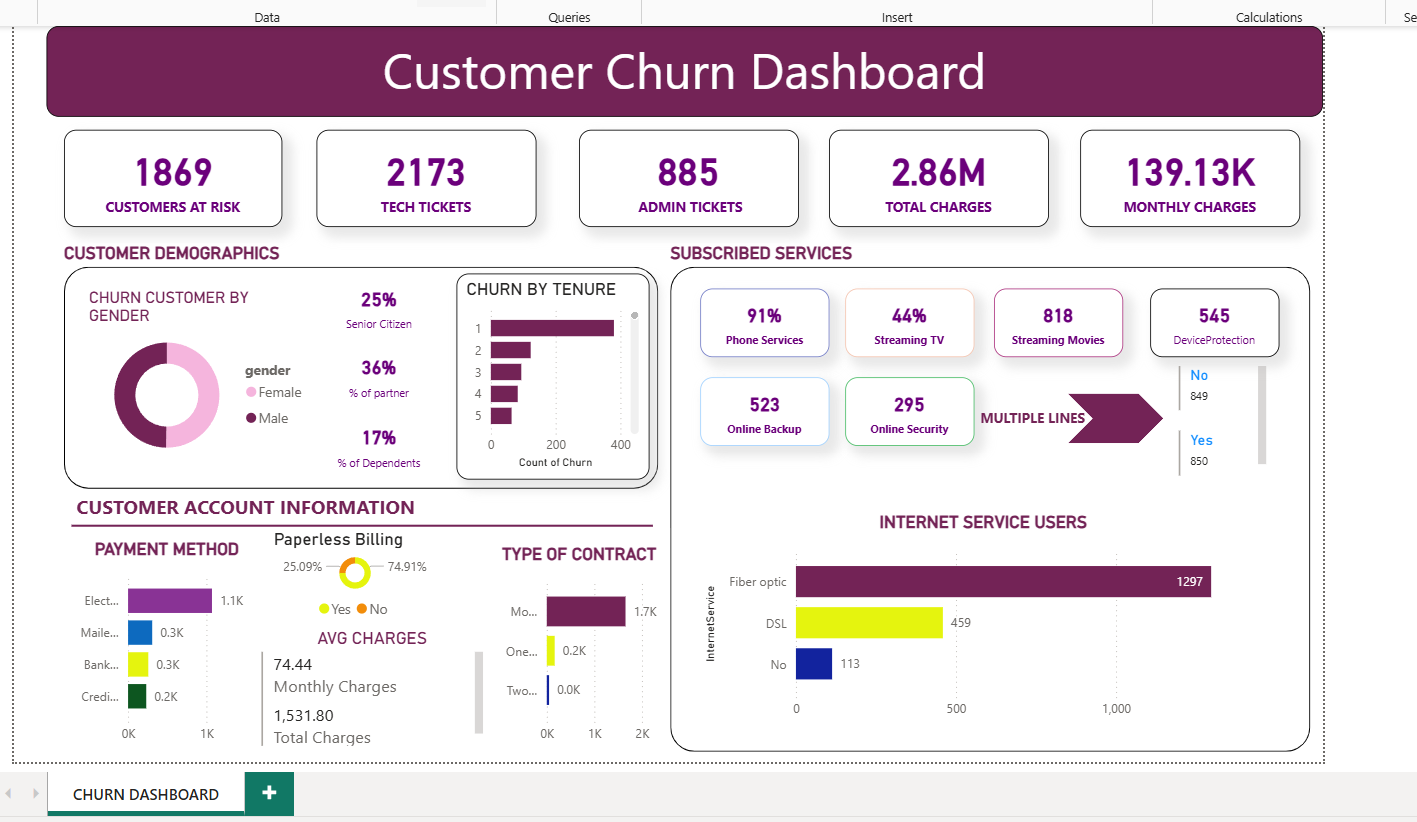

What the dashboard file says about the page in this screenshot:
{"tool":"powerbi","page":{"name":"CHURN DASHBOARD","canvas":[1280,720],"ordinal":0},"visuals":[{"type":"card","fields":{"Values":["CountNonNull(01 Churn-Dataset.customerID)"]},"box":[49.1,101,213.5,95.2],"z":0},{"type":"textbox","box":[31.2,0,1248.8,88.8],"z":1000},{"type":"card","fields":{"Values":["Sum(01 Churn-Dataset.numTechTickets)"]},"box":[295.8,101,215,95.2],"z":2000},{"type":"card","fields":{"Values":["Sum(01 Churn-Dataset.numAdminTickets)"]},"box":[552.6,101,215,95.2],"z":3000},{"type":"card","fields":{"Values":["Sum(01 Churn-Dataset.TotalCharges)"]},"box":[797.8,101,215,95.2],"z":4000},{"type":"card","fields":{"Values":["Sum(01 Churn-Dataset.MonthlyCharges)"]},"box":[1043.1,101,215,95.2],"z":5000},{"type":"donutChart","title":"CHURN CUSTOMER BY GENDER","fields":{"Category":["01 Churn-Dataset.gender"],"Y":["CountNonNull(01 Churn-Dataset.customerID)"]},"box":[68.8,256.2,227.5,173.8],"z":6000},{"type":"shape","title":"CUSTOMER DEMOGRAPHICS","box":[48.8,211.2,581.2,241.2],"z":7000},{"type":"card","fields":{"Values":["Churn.Senior Citizen"]},"box":[296.2,242.5,122.5,66.2],"z":8000},{"type":"card","fields":{"Values":["Churn.% of partner"]},"box":[296.2,308.8,122.5,67.5],"z":9000},{"type":"card","fields":{"Values":["Churn.% of Dependents"]},"box":[296.2,376.2,122.5,67.5],"z":10000},{"type":"clusteredBarChart","title":"CHURN BY TENURE","fields":{"Y":["CountNonNull(Churn.Churn)"],"Category":["Churn.tenure - Copy"]},"box":[432.5,242.5,188.8,201.2],"z":11000},{"type":"shape","title":"SUBSCRIBED SERVICES","box":[642.5,211.2,626.2,498.8],"z":12000},{"type":"card","fields":{"Values":["Churn.% OF PHONE SERVICES"]},"box":[671.2,256.2,126.2,67.5],"z":13000},{"type":"card","fields":{"Values":["Churn.% OF STREAMING TV"]},"box":[813.8,256.2,126.2,67.5],"z":14000},{"type":"card","fields":{"Values":["CountNonNull(Churn.StreamingMovies)"]},"box":[958.8,256.2,126.2,67.5],"z":15000},{"type":"card","fields":{"Values":["CountNonNull(Churn.DeviceProtection)"]},"box":[1111.2,256.2,126.2,67.5],"z":16000},{"type":"card","fields":{"Values":["CountNonNull(Churn.OnlineBackup)"]},"box":[671.2,343.8,126.2,67.5],"z":17000},{"type":"card","fields":{"Values":["CountNonNull(Churn.OnlineSecurity)"]},"box":[813.8,343.8,126.2,67.5],"z":18000},{"type":"multiRowCard","fields":{"Values":["Churn.MultipleLines","Churn.customerID"]},"box":[1125,332.5,100,111.2],"z":19000},{"type":"shape","box":[1031.2,360,93.8,48.8],"z":20000},{"type":"textbox","box":[940.4,369.3,138.2,31.8],"z":21000},{"type":"barChart","title":"INTERNET SERVICE USERS","fields":{"Category":["Churn.InternetService"],"Y":["CountNonNull(Churn.InternetService)"]},"box":[671.2,461.2,553.8,225],"z":22000},{"type":"barChart","title":"PAYMENT METHOD","fields":{"Category":["Churn.PaymentMethod"],"Y":["CountNonNull(Churn.PaymentMethod)"]},"box":[48.8,486.2,201.2,223.8],"z":23000},{"type":"shape","box":[56.2,388.8,568.8,200],"z":24000},{"type":"textbox","box":[56.2,452.5,362.5,36.2],"z":25000},{"type":"donutChart","title":"Paperless Billing","fields":{"Category":["Churn.PaperlessBilling"],"Y":["CountNonNull(Churn.PaperlessBilling)"]},"box":[250,491.2,168.8,97.5],"z":26000},{"type":"multiRowCard","title":"AVG CHARGES","fields":{"Values":["Avg(Churn.MonthlyCharges)","Avg(Churn.TotalCharges)"]},"box":[237.5,588.8,226.2,121.2],"z":27000},{"type":"barChart","title":"TYPE OF CONTRACT","fields":{"Category":["Churn.Contract"],"Y":["CountNonNull(Churn.Contract)"]},"box":[463.8,491.2,178.8,218.8],"z":28000}]}

Visuals, with their boxes on the page's 1280x720 design canvas (x1, y1, x2, y2). These are canvas units, not pixel positions in the 1417x822 screenshot, which may show the page scaled, cropped or inside an application window:
card - CountNonNull(01 Churn-Dataset.customerID): (left=49, top=101, right=263, bottom=196)
textbox: (left=31, top=0, right=1280, bottom=89)
card - Sum(01 Churn-Dataset.numTechTickets): (left=296, top=101, right=511, bottom=196)
card - Sum(01 Churn-Dataset.numAdminTickets): (left=553, top=101, right=768, bottom=196)
card - Sum(01 Churn-Dataset.TotalCharges): (left=798, top=101, right=1013, bottom=196)
card - Sum(01 Churn-Dataset.MonthlyCharges): (left=1043, top=101, right=1258, bottom=196)
"CHURN CUSTOMER BY GENDER" donutChart: (left=69, top=256, right=296, bottom=430)
"CUSTOMER DEMOGRAPHICS" shape: (left=49, top=211, right=630, bottom=452)
card - Churn.Senior Citizen: (left=296, top=242, right=419, bottom=309)
card - Churn.% of partner: (left=296, top=309, right=419, bottom=376)
card - Churn.% of Dependents: (left=296, top=376, right=419, bottom=444)
"CHURN BY TENURE" clusteredBarChart: (left=432, top=242, right=621, bottom=444)
"SUBSCRIBED SERVICES" shape: (left=642, top=211, right=1269, bottom=710)
card - Churn.% OF PHONE SERVICES: (left=671, top=256, right=797, bottom=324)
card - Churn.% OF STREAMING TV: (left=814, top=256, right=940, bottom=324)
card - CountNonNull(Churn.StreamingMovies): (left=959, top=256, right=1085, bottom=324)
card - CountNonNull(Churn.DeviceProtection): (left=1111, top=256, right=1237, bottom=324)
card - CountNonNull(Churn.OnlineBackup): (left=671, top=344, right=797, bottom=411)
card - CountNonNull(Churn.OnlineSecurity): (left=814, top=344, right=940, bottom=411)
multiRowCard - Churn.MultipleLines x Churn.customerID: (left=1125, top=332, right=1225, bottom=444)
shape: (left=1031, top=360, right=1125, bottom=409)
textbox: (left=940, top=369, right=1079, bottom=401)
"INTERNET SERVICE USERS" barChart: (left=671, top=461, right=1225, bottom=686)
"PAYMENT METHOD" barChart: (left=49, top=486, right=250, bottom=710)
shape: (left=56, top=389, right=625, bottom=589)
textbox: (left=56, top=452, right=419, bottom=489)
"Paperless Billing" donutChart: (left=250, top=491, right=419, bottom=589)
"AVG CHARGES" multiRowCard: (left=238, top=589, right=464, bottom=710)
"TYPE OF CONTRACT" barChart: (left=464, top=491, right=643, bottom=710)
